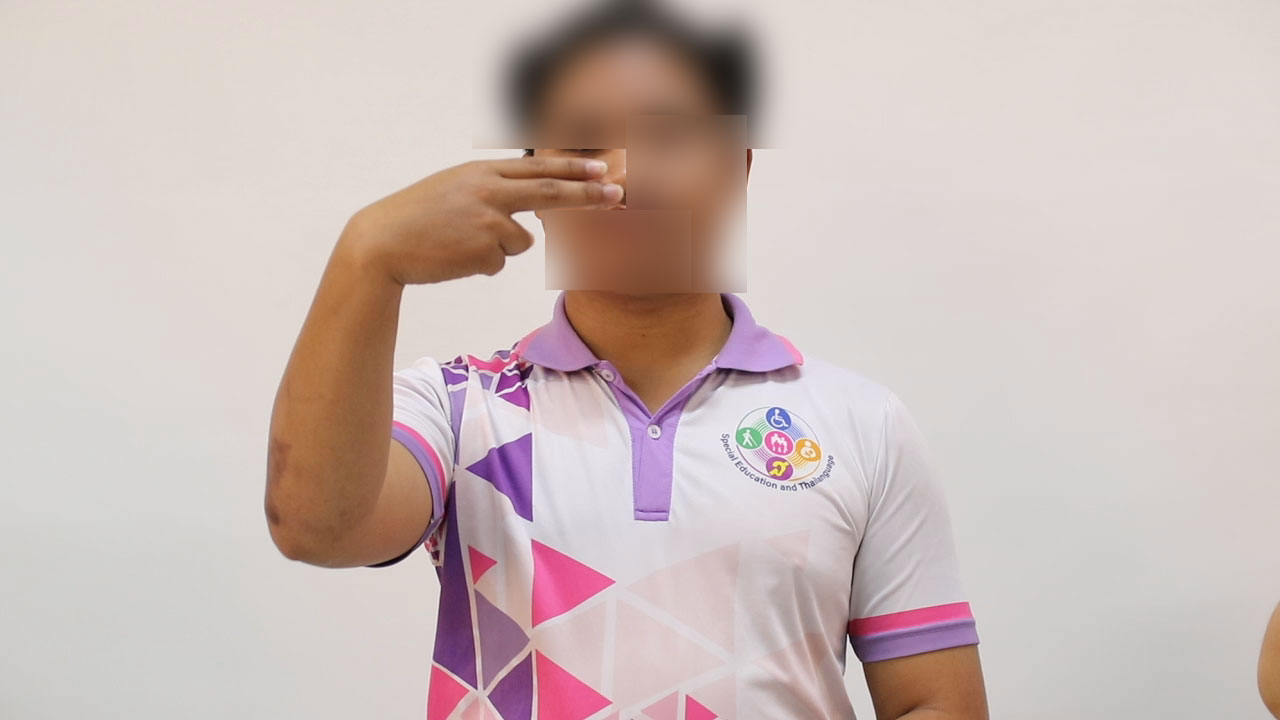hor: (333, 146, 639, 305)
